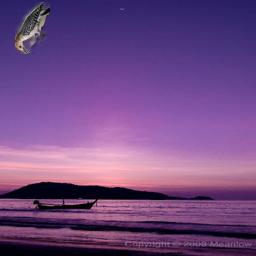Woodpecker: (15, 2, 50, 54)
